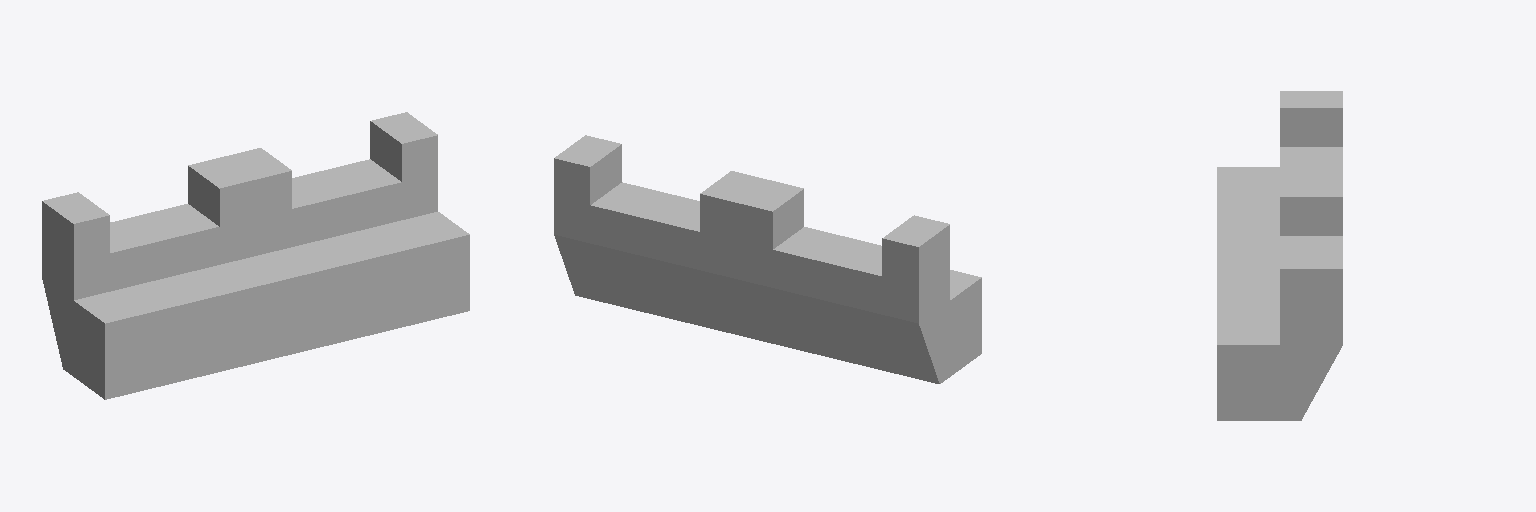
File: battlement.obj
3 views of the same model, side by side, from view 1: azimuth 30°, elevation 25°; view 2: azimuth 150°, elevation 25°; view 3: azimuth 270°, elevation 25° (orthographic).
Visible parts, largest first — view 1: battlement; view 2: battlement; view 3: battlement.
Boxes of the visible parts, box(x1,y1,x2,y2) form: battlement: box(42, 112, 469, 399); battlement: box(554, 135, 981, 383); battlement: box(1217, 91, 1342, 420).
Bounding box in the file's own units: 1 × 0.4 × 0.3.